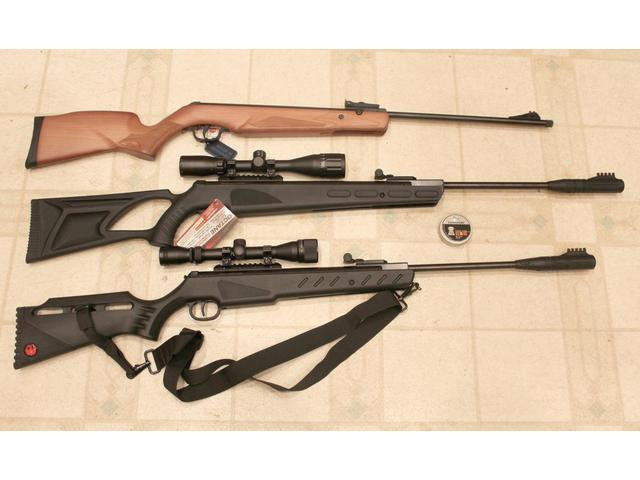rifle: (11, 251, 607, 375), (18, 167, 634, 264), (23, 96, 565, 170)
